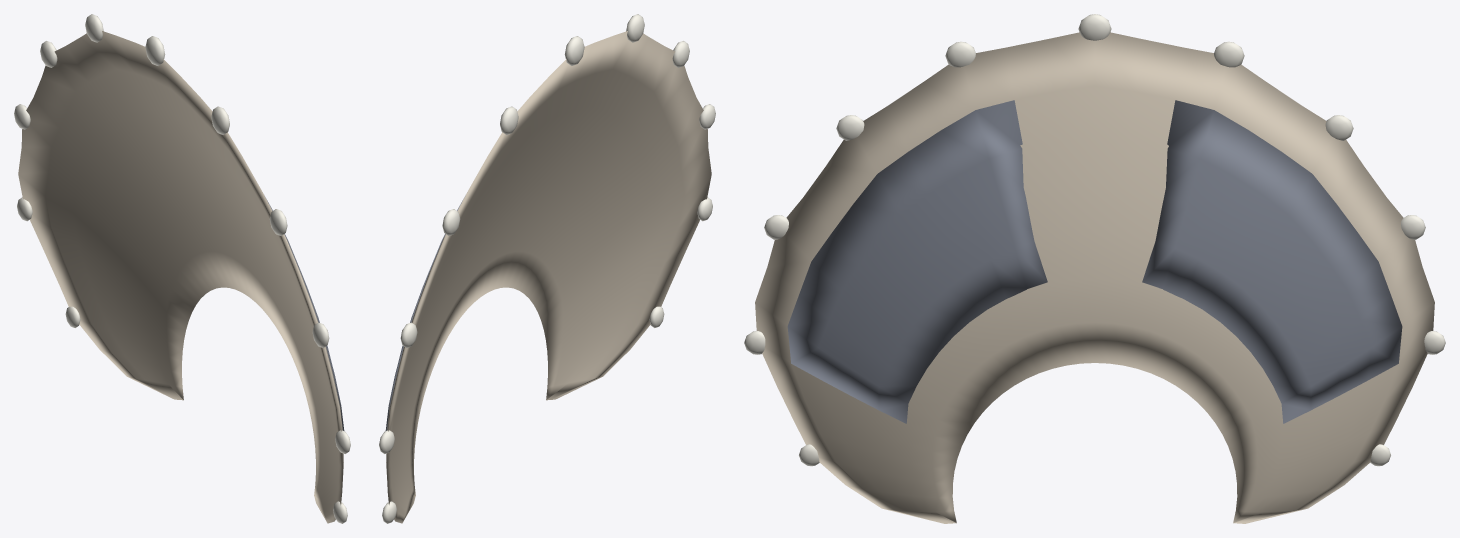
The model's file is creature.neckfrill.glb.
3 views of the same model, side by side, from view 1: azimuth 30°, elevation 25°; view 2: azimuth 150°, elevation 25°; view 3: azimuth 270°, elevation 25° (orthographic). The views are drawn at different scales.
Parts seen in each view (by area): view 1: Skin, Bone; view 2: Skin, Bone; view 3: Skin, BackSkin, Bone.
Part boxes in pixels (<box>): Skin: <box>18,31,343,523</box>; Bone: <box>14,14,350,523</box>; Skin: <box>386,31,711,523</box>; Bone: <box>379,14,715,523</box>; Skin: <box>755,32,1434,523</box>; BackSkin: <box>787,100,1402,423</box>; Bone: <box>744,14,1445,466</box>.
Bounding box in the file's own units: 0.6865 × 2.87 × 3.95.
